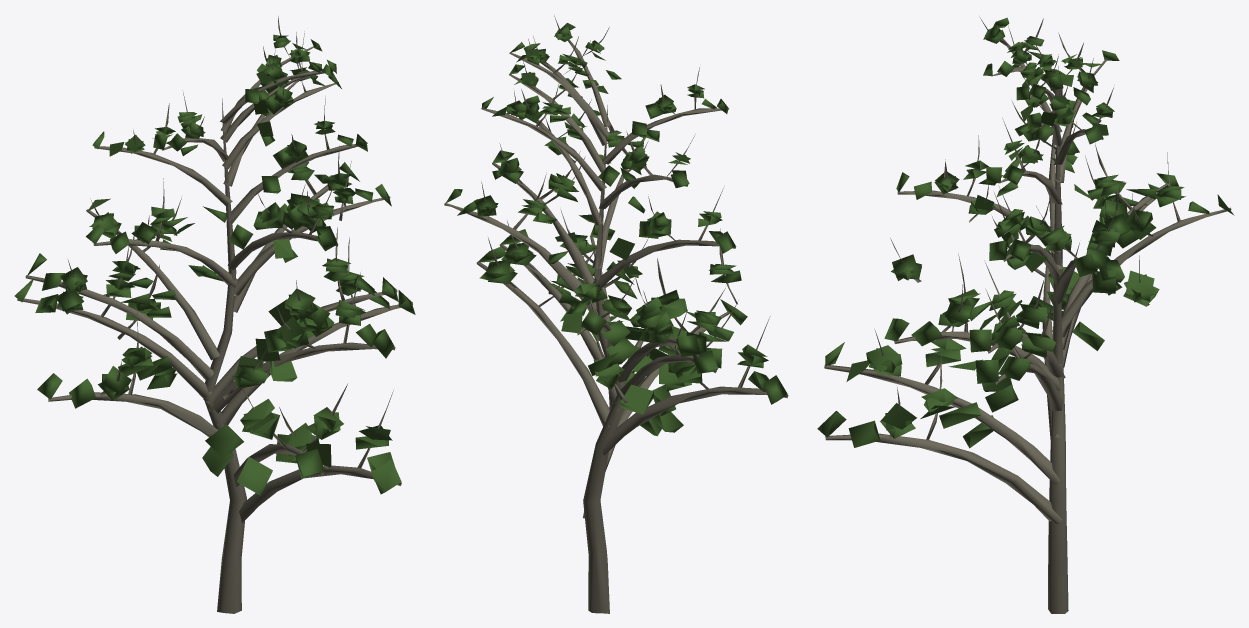
Rendered from Tree_PinOak_004.fbx.
3 renders of one model, left to right at view 1: azimuth 30°, elevation 25°; view 2: azimuth 150°, elevation 25°; view 3: azimuth 270°, elevation 25°, orthographic. The views are drawn at different scales.
Visible parts, largest first — view 1: Tree_PinOak.004; view 2: Tree_PinOak.004; view 3: Tree_PinOak.004.
Boxes of the visible parts, x1=… form: Tree_PinOak.004: x1=14, y1=16, x2=415, y2=613; Tree_PinOak.004: x1=444, y1=15, x2=788, y2=613; Tree_PinOak.004: x1=817, y1=17, x2=1234, y2=613.
Bounding box in the file's own units: 1591 × 2576 × 1618.
